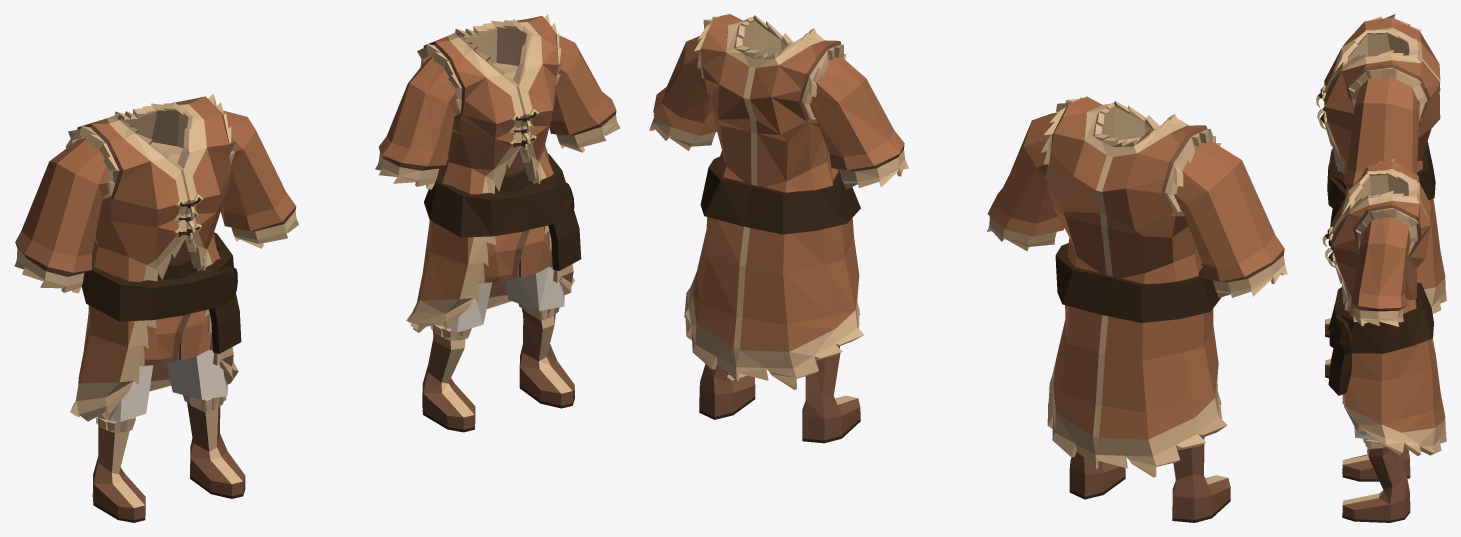
The model's file is ARMOR_fur.fbx.
3 views of the same model, side by side, from view 1: azimuth 30°, elevation 25°; view 2: azimuth 150°, elevation 25°; view 3: azimuth 270°, elevation 25° (orthographic). The views are drawn at different scales.
Parts seen in each view (by area): view 1: NPC_01_chainhauberk_bi_ARMORexport:npc_fur_male, NPC_01_chainhauberk_bi_ARMORexport:npc_fur_female; view 2: NPC_01_chainhauberk_bi_ARMORexport:npc_fur_male, NPC_01_chainhauberk_bi_ARMORexport:npc_fur_female; view 3: NPC_01_chainhauberk_bi_ARMORexport:npc_fur_female, NPC_01_chainhauberk_bi_ARMORexport:npc_fur_male.
Part boxes in pixels (x1=…): NPC_01_chainhauberk_bi_ARMORexport:npc_fur_male: x1=14, y1=94, x2=298, y2=522; NPC_01_chainhauberk_bi_ARMORexport:npc_fur_female: x1=375, y1=14, x2=620, y2=432; NPC_01_chainhauberk_bi_ARMORexport:npc_fur_male: x1=987, y1=96, x2=1287, y2=522; NPC_01_chainhauberk_bi_ARMORexport:npc_fur_female: x1=649, y1=14, x2=908, y2=443; NPC_01_chainhauberk_bi_ARMORexport:npc_fur_female: x1=1322, y1=159, x2=1446, y2=522; NPC_01_chainhauberk_bi_ARMORexport:npc_fur_male: x1=1316, y1=14, x2=1446, y2=378.
Bounding box in the file's own units: 1152 × 695 × 261.
